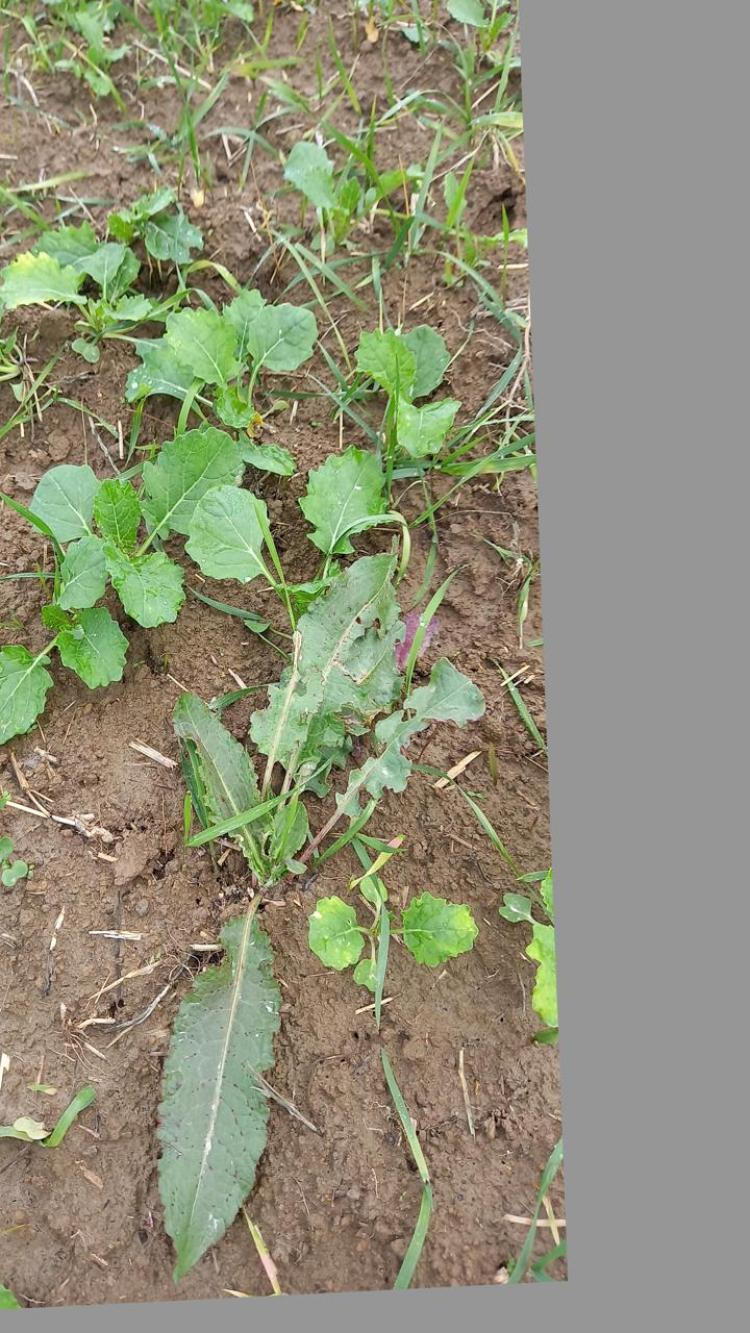zhavel: (162, 548, 494, 1285)
